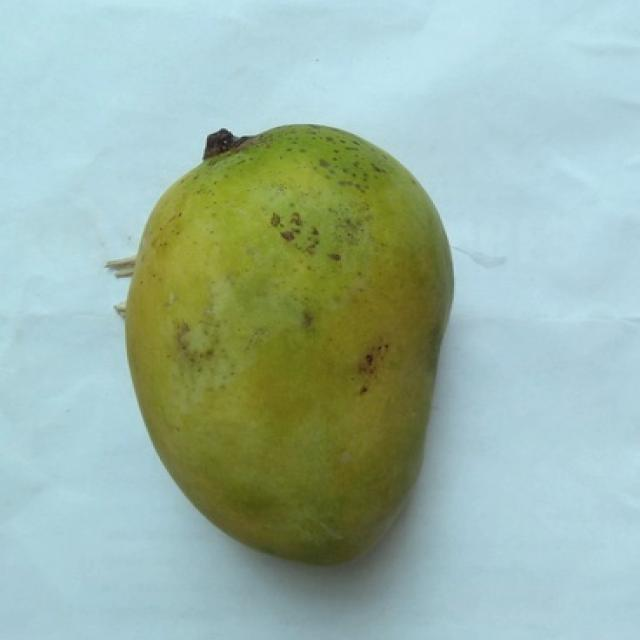Mango: (127, 125, 452, 560)
